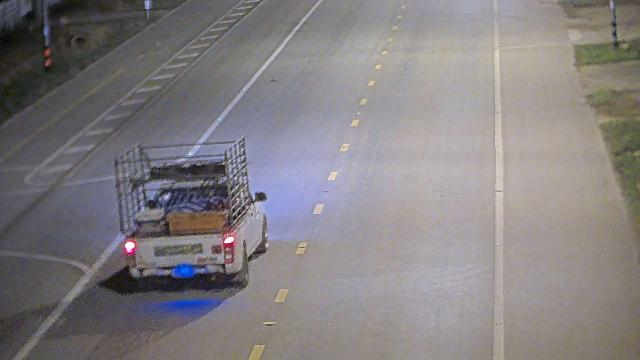pickup-truck: (113, 136, 269, 288)
